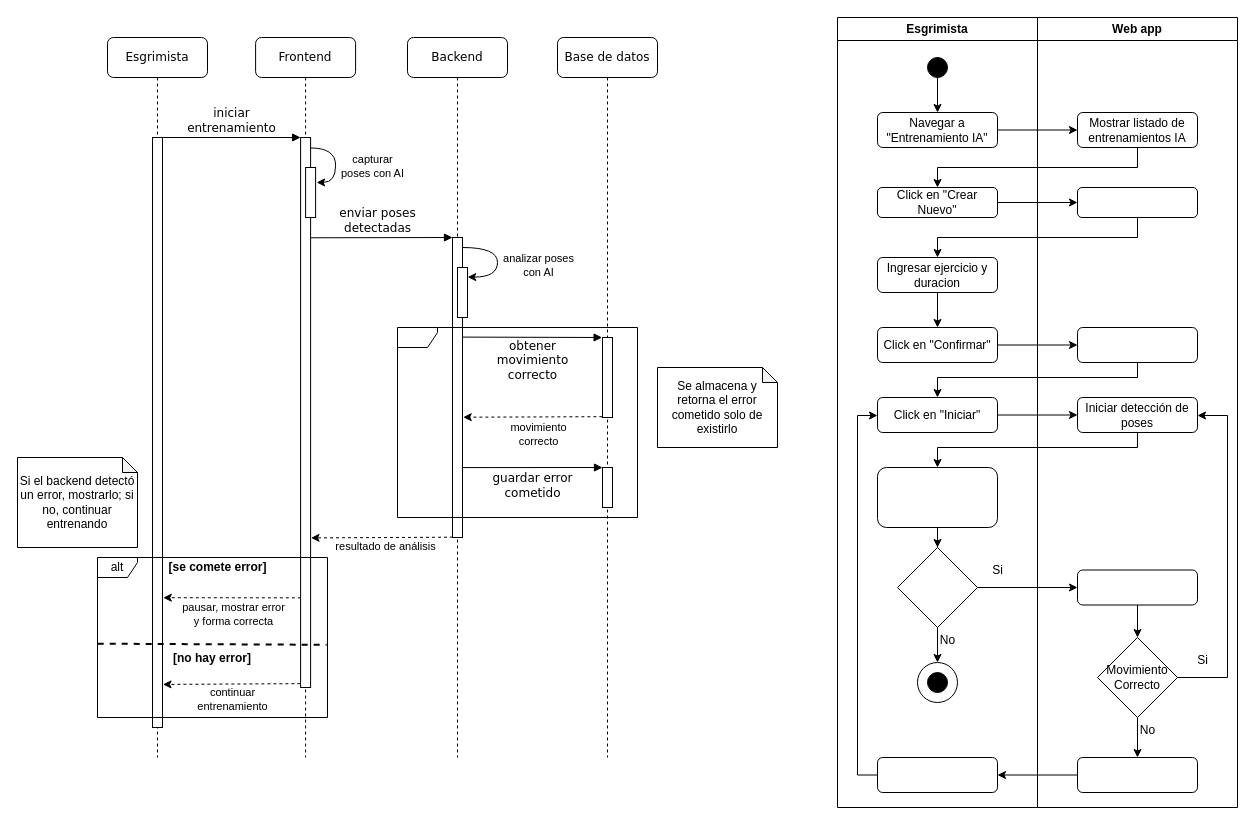
Some shapes in this 1255 by 825 pixel diagram are drawn without their labels. Each missing label, with the centre of its shape:
Analizar pose: point 1137,587
Click en "Cerrar": point 937,774
Mostrar formulario de ejercicio y duracion: point 1137,202
Mostrar pantalla de entrenamiento: point 1137,344
Mostrar retroalimentación: point 1137,774
opt: point 517,422
Realizar movimiento en plazo de 3 segundos: point 937,497
Tiempo restante: point 937,587
